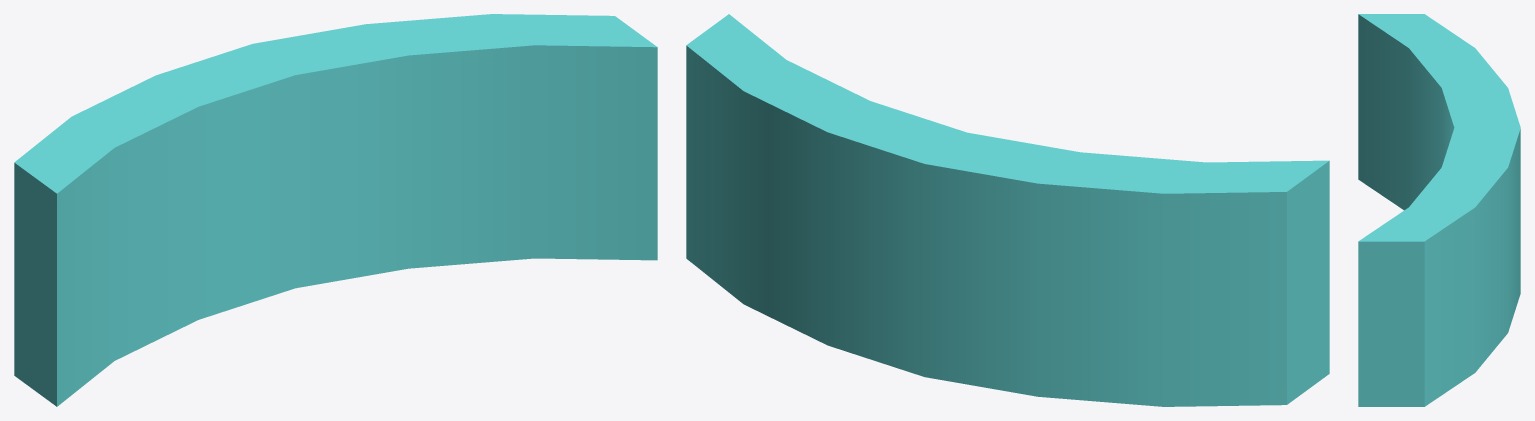
Rendered from SM_Fishtank.fbx.
The picture shows the model from 3 angles, left to right: view 1: azimuth 30°, elevation 25°; view 2: azimuth 150°, elevation 25°; view 3: azimuth 270°, elevation 25°; orthographic projection. The views are drawn at different scales.
Parts seen in each view (by area): view 1: polySurface1; view 2: polySurface1; view 3: polySurface1.
Part boxes in pixels (<box>): polySurface1: <box>14,14,657,406</box>; polySurface1: <box>686,14,1329,406</box>; polySurface1: <box>1358,14,1520,406</box>.
Bounding box in the file's own units: 1201 × 407 × 363.
